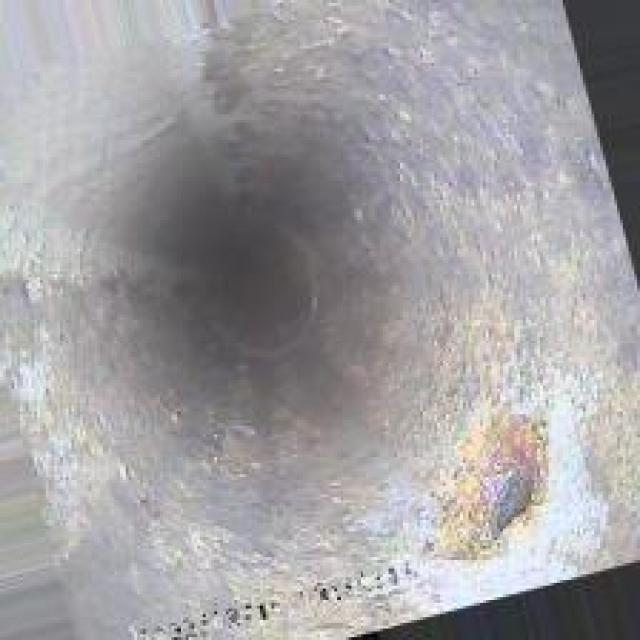ferrule: (452, 437, 557, 557)
